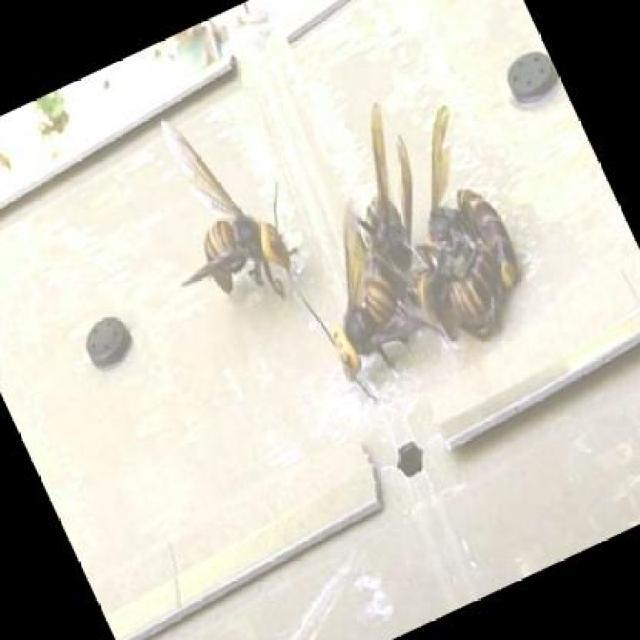Wasp: (160, 123, 297, 303), (426, 100, 522, 337), (334, 207, 410, 381)
